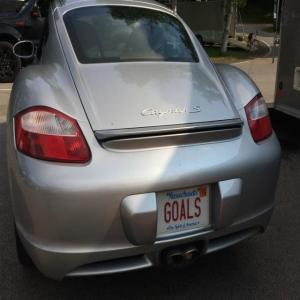Plate: (157, 187, 211, 235)
